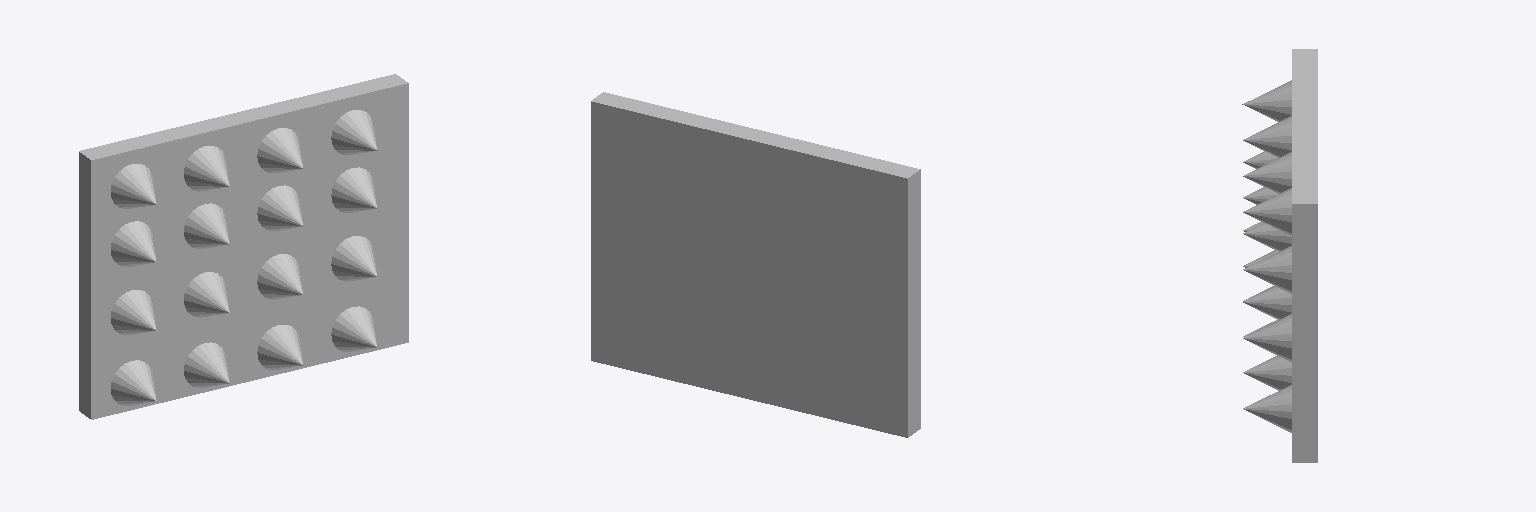
File: RightClamp.obj
The picture shows the model from 3 angles: view 1: azimuth 30°, elevation 25°; view 2: azimuth 150°, elevation 25°; view 3: azimuth 270°, elevation 25°; orthographic projection.
Parts seen in each view (by area): view 1: pCube42, pCone35, pCone30, pCone32, pCone27, pCone23, pCone21, pCone24, pCone31, pCone33, pCone36, pCone28 (+5 smaller); view 2: pCube42; view 3: pCube42, pCone35, pCone33, pCone34, pCone36, pCone24, pCone32, pCone26, pCone29, pCone30, pCone31.
Boxes of the visible parts, x1=… form: pCube42: x1=79, y1=74, x2=408, y2=419; pCone35: x1=331, y1=236, x2=376, y2=281; pCone30: x1=257, y1=254, x2=302, y2=299; pCone32: x1=257, y1=128, x2=302, y2=173; pCone27: x1=184, y1=272, x2=229, y2=317; pCone23: x1=111, y1=221, x2=156, y2=266; pCone21: x1=111, y1=360, x2=156, y2=405; pCone24: x1=184, y1=146, x2=229, y2=191; pCone31: x1=257, y1=185, x2=302, y2=230; pCone33: x1=331, y1=110, x2=376, y2=155; pCone36: x1=331, y1=306, x2=376, y2=351; pCone28: x1=184, y1=342, x2=229, y2=387; pCube42: x1=591, y1=92, x2=920, y2=437; pCube42: x1=1292, y1=49, x2=1317, y2=462; pCone35: x1=1243, y1=314, x2=1291, y2=362; pCone33: x1=1243, y1=188, x2=1291, y2=236; pCone34: x1=1243, y1=246, x2=1291, y2=293; pCone36: x1=1243, y1=385, x2=1291, y2=432; pCone24: x1=1243, y1=116, x2=1291, y2=157; pCone32: x1=1243, y1=152, x2=1291, y2=193; pCone26: x1=1242, y1=80, x2=1291, y2=121; pCone29: x1=1243, y1=356, x2=1291, y2=390; pCone30: x1=1243, y1=286, x2=1291, y2=319; pCone31: x1=1243, y1=223, x2=1291, y2=251.
Bounding box in the file's own units: 14.35 × 11.22 × 2.94.